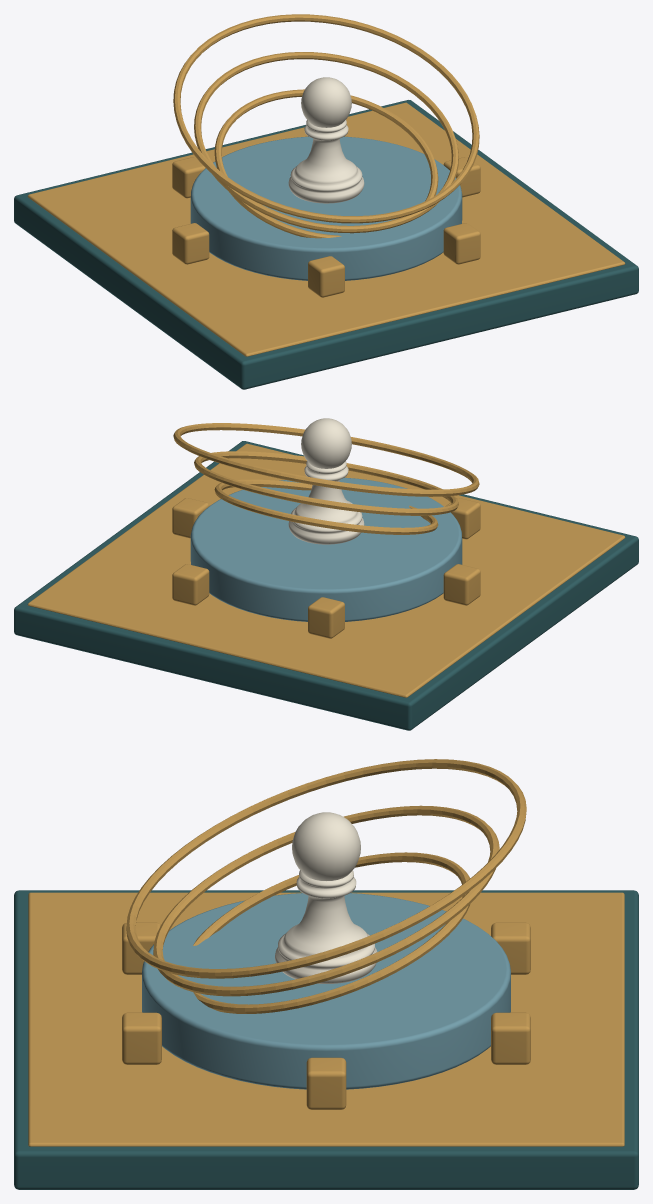
File: piece.cpp.glb
The picture shows the model from 3 angles, top to bottom: view 1: azimuth 30°, elevation 25°; view 2: azimuth 150°, elevation 25°; view 3: azimuth 270°, elevation 25°; orthographic projection. The views are drawn at different scales.
Parts seen in each view (by area): view 1: Cube.001, Cylinder, Cube, Torus.012, P.002, Torus.011, Torus.010, Cube.005, Cube.007, Cube.006, Cube.004, Cube.002; view 2: Cube.001, Cylinder, Cube, P.002, Torus.012, Torus.011, Torus.010, Cube.005, Cube.003, Cube.004, Cube.002, Cube.006; view 3: Cube.001, Cylinder, Cube, P.002, Torus.012, Torus.011, Torus.010, Cube.002, Cube.003, Cube.007, Cube.004, Cube.006.
Part boxes in pixels (bbox=[...]): Cube.001: bbox=[27, 102, 625, 356]; Cylinder: bbox=[190, 136, 462, 280]; Cube: bbox=[14, 100, 638, 389]; Torus.012: bbox=[173, 14, 479, 223]; P.002: bbox=[288, 77, 364, 203]; Torus.011: bbox=[194, 52, 458, 233]; Torus.010: bbox=[214, 89, 438, 238]; Cube.005: bbox=[172, 223, 209, 264]; Cube.007: bbox=[443, 223, 480, 264]; Cube.006: bbox=[308, 256, 344, 297]; Cube.004: bbox=[172, 157, 205, 198]; Cube.002: bbox=[443, 157, 480, 197]; Cube.001: bbox=[27, 443, 625, 697]; Cylinder: bbox=[190, 477, 462, 621]; Cube: bbox=[14, 441, 638, 730]; P.002: bbox=[288, 418, 364, 544]; Torus.012: bbox=[173, 423, 479, 496]; Torus.011: bbox=[194, 451, 458, 515]; Torus.010: bbox=[214, 479, 438, 534]; Cube.005: bbox=[443, 564, 480, 605]; Cube.003: bbox=[172, 564, 209, 605]; Cube.004: bbox=[308, 597, 344, 638]; Cube.002: bbox=[172, 498, 209, 538]; Cube.006: bbox=[445, 498, 480, 539]; Cube.001: bbox=[28, 892, 624, 1146]; Cylinder: bbox=[142, 893, 510, 1089]; Cube: bbox=[14, 890, 638, 1189]; P.002: bbox=[274, 812, 377, 983]; Torus.012: bbox=[126, 759, 526, 978]; Torus.011: bbox=[153, 805, 499, 996]; Torus.010: bbox=[193, 852, 470, 1013]; Cube.002: bbox=[306, 1057, 346, 1109]; Cube.003: bbox=[491, 1012, 530, 1064]; Cube.007: bbox=[122, 1012, 161, 1064]; Cube.004: bbox=[491, 922, 530, 974]; Cube.006: bbox=[122, 922, 160, 974].
Size of the model in its own units: 4.4 by 1.97 by 4.4.
